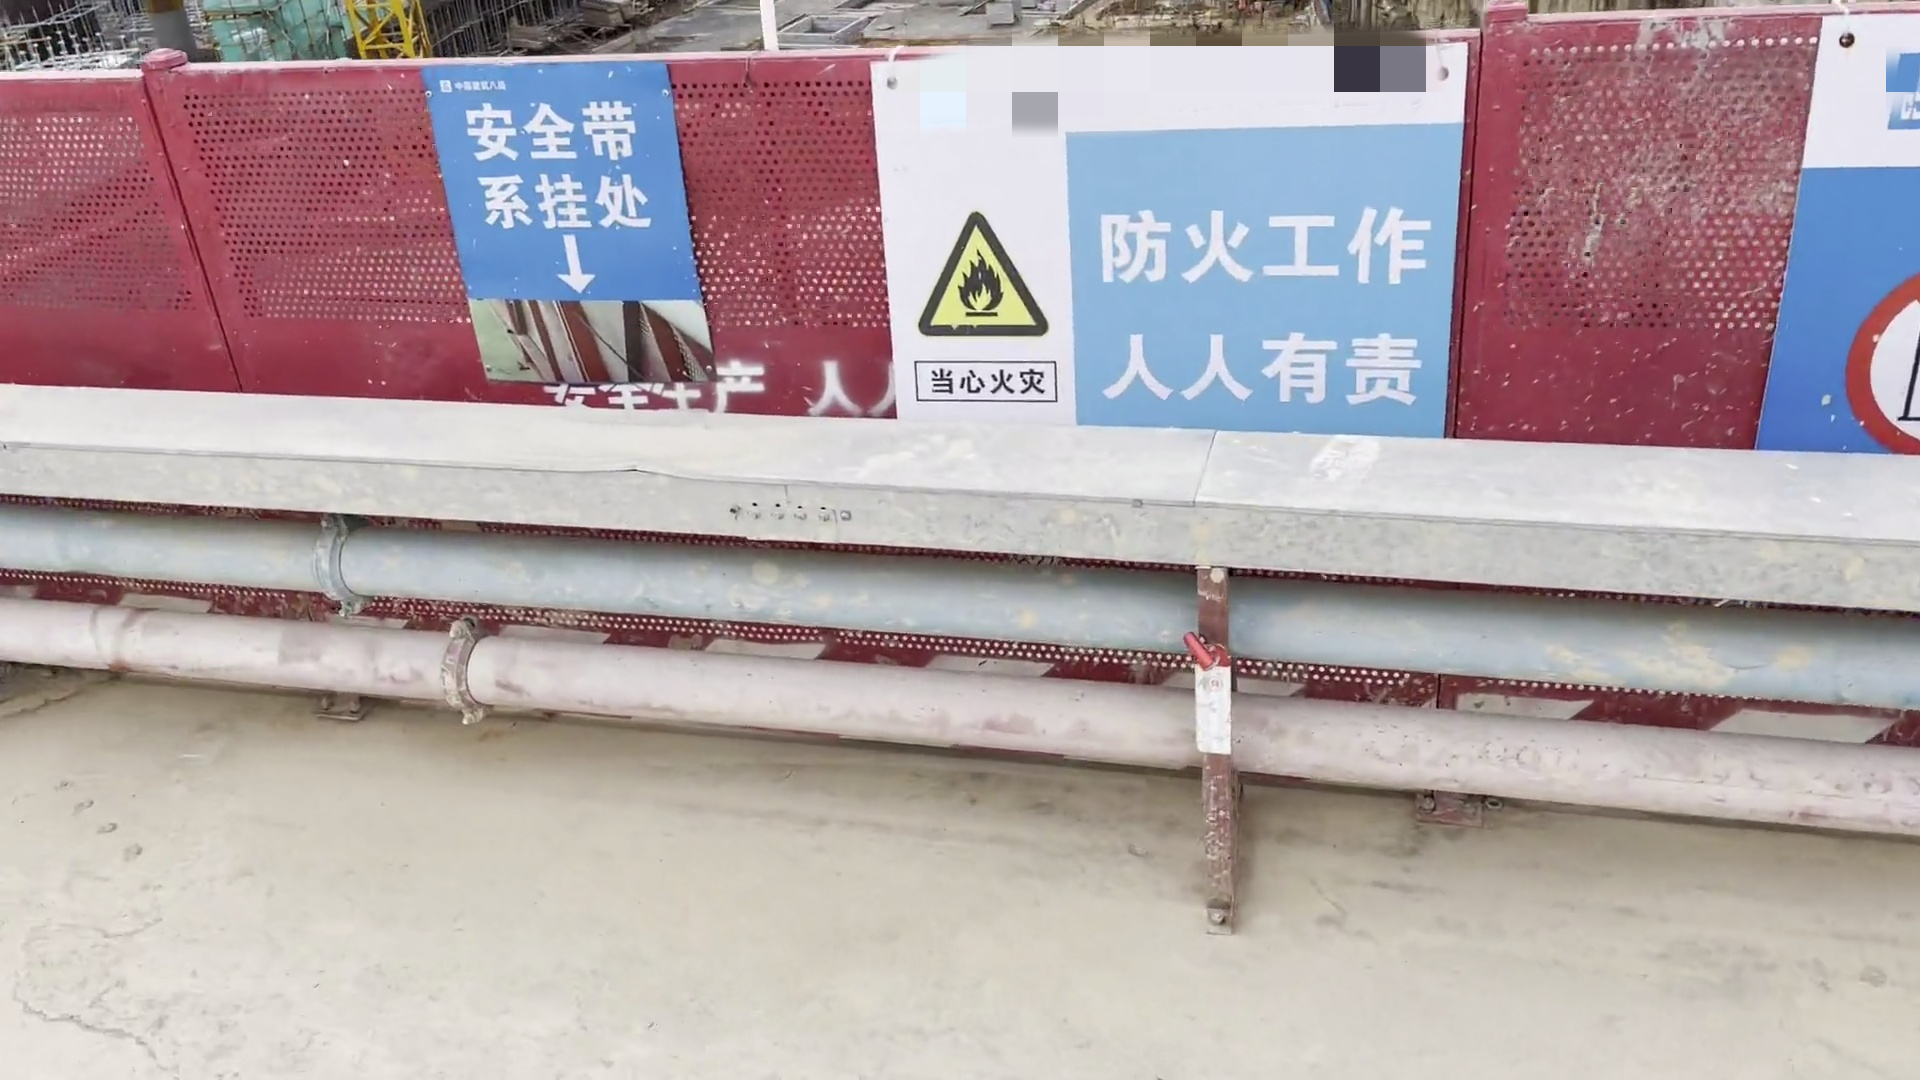brick: (777, 15, 868, 42)
fence: (980, 3, 1920, 465), (3, 41, 990, 436)
slogan: (862, 22, 1484, 526), (410, 37, 742, 407), (1720, 3, 1920, 506)
